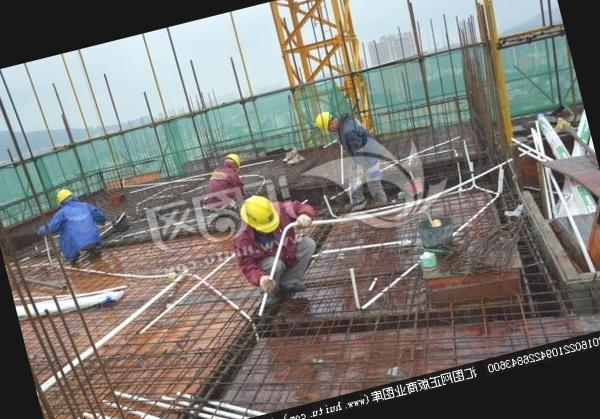helmet: (235, 186, 288, 240), (312, 104, 343, 136), (50, 183, 78, 207)
person: (211, 181, 330, 326), (25, 170, 121, 276), (317, 92, 392, 218), (186, 148, 253, 214)
